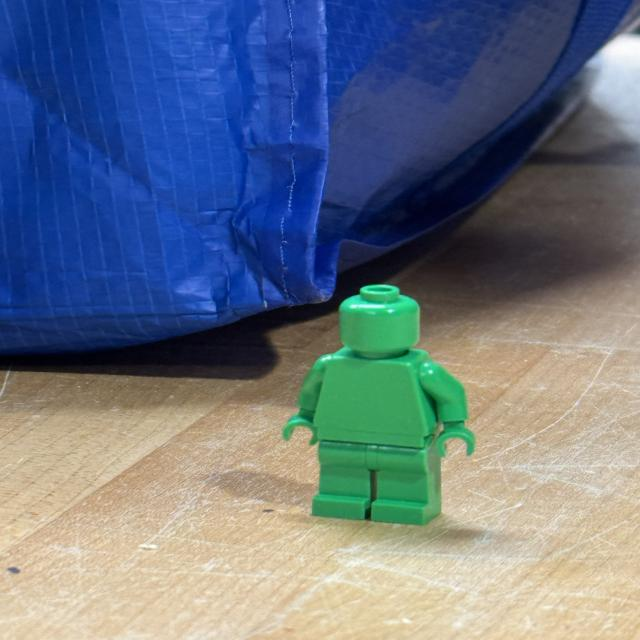Green Mini Figure: (283, 284, 475, 525)
